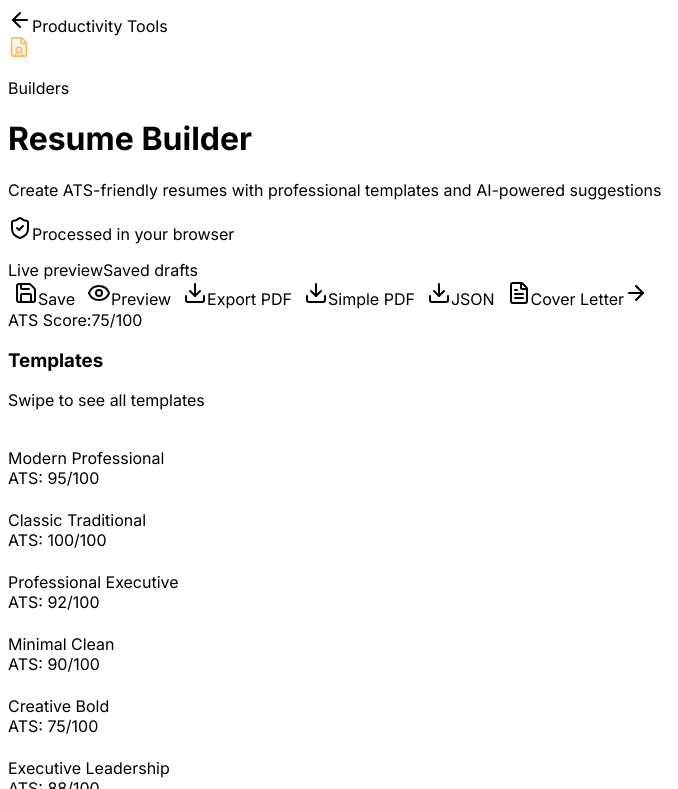
Scenario: Resume Builder - Save Functionality › displays last saved time after saving
Click the button "Save". click: coordinates (44, 295)
box: [8,280,81,310]
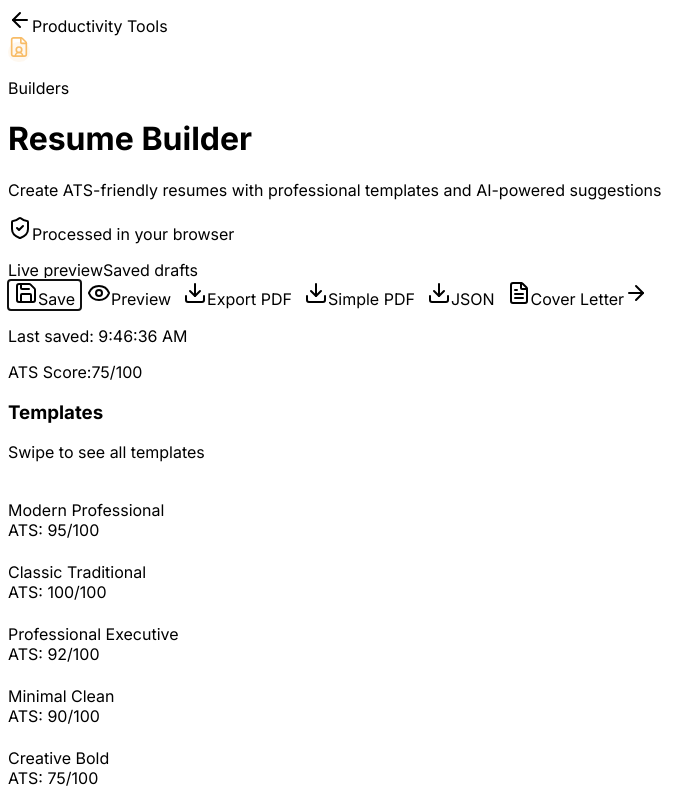
Expected: the text "Last saved: 9:46:36 AM" is shown, [8,326,188,346]
